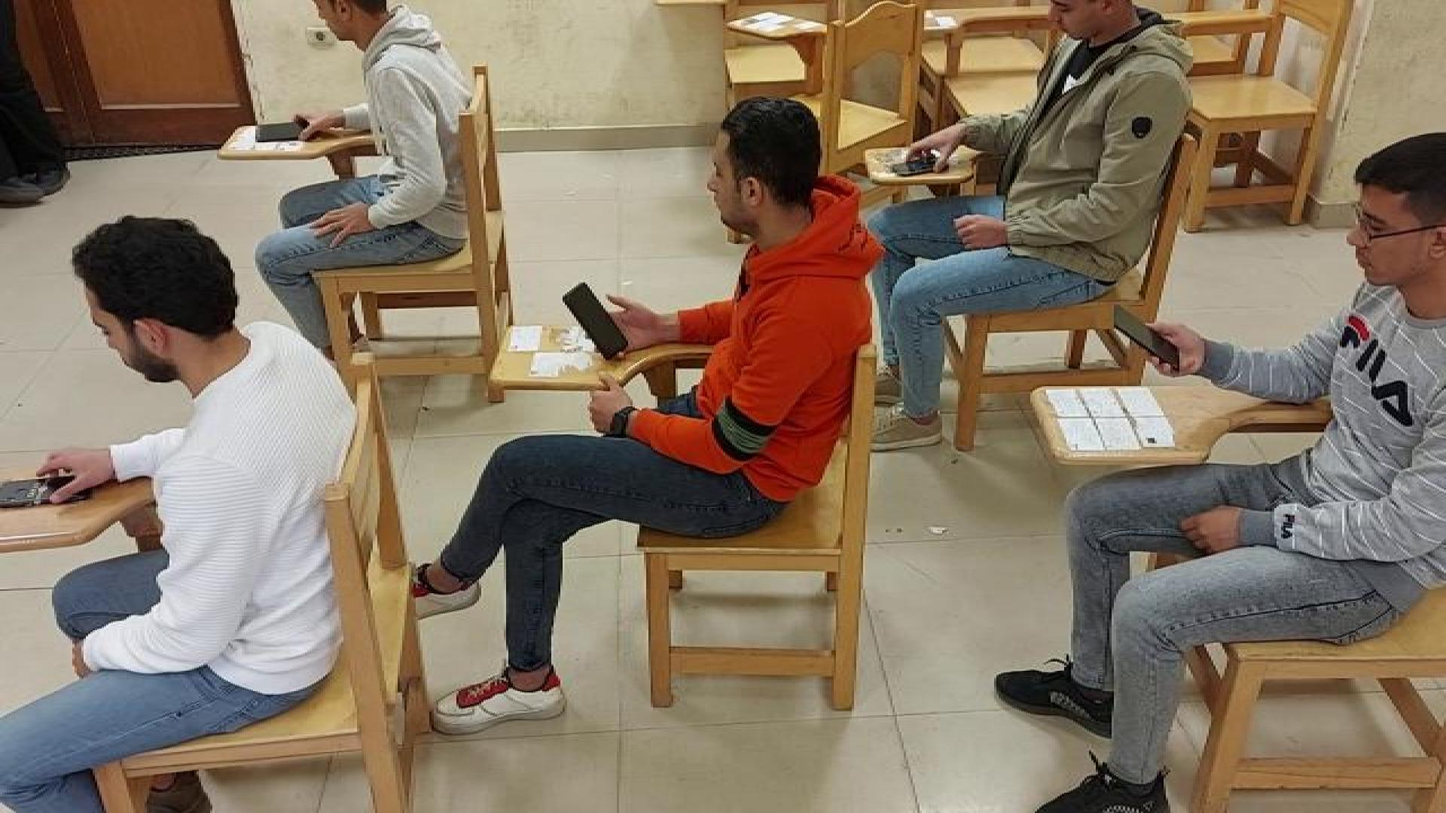phone: (1112, 297, 1184, 371), (563, 281, 628, 362), (0, 473, 95, 509), (254, 116, 311, 146), (891, 159, 950, 178)
